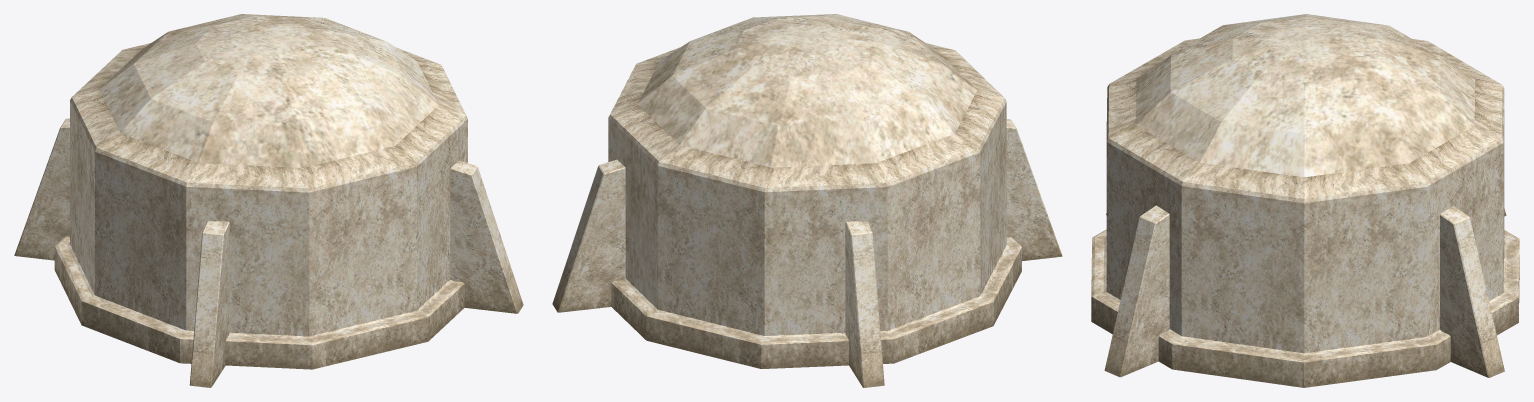
The model's file is thm_tato_jnkshp_bldg_l1.fbx.
The picture shows the model from 3 angles, left to right: view 1: azimuth 30°, elevation 25°; view 2: azimuth 150°, elevation 25°; view 3: azimuth 270°, elevation 25°; orthographic projection. The views are drawn at different scales.
Parts seen in each view (by area): view 1: mesh_node; view 2: mesh_node; view 3: mesh_node.
Boxes of the visible parts, x1,y1,x2,y2 form: mesh_node: (14,14,523,387); mesh_node: (552,14,1062,387); mesh_node: (1091,14,1519,387).
Size of the model in its own units: 9.05 by 5.61 by 8.62.
